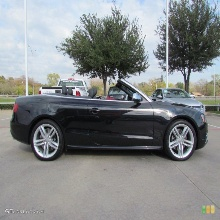no damage: (11, 80, 210, 162)
